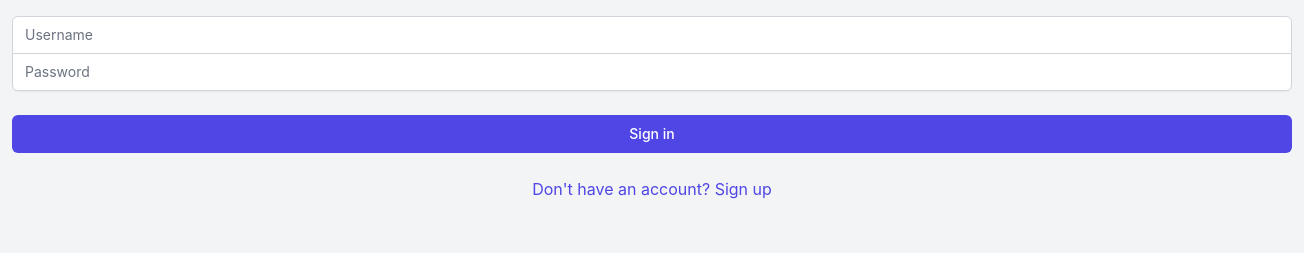
Test: LoginForm Component › toggles to registration form
Click the button "Don't have an account? Sign up" at coordinates (652, 189), box [532, 177, 772, 201]
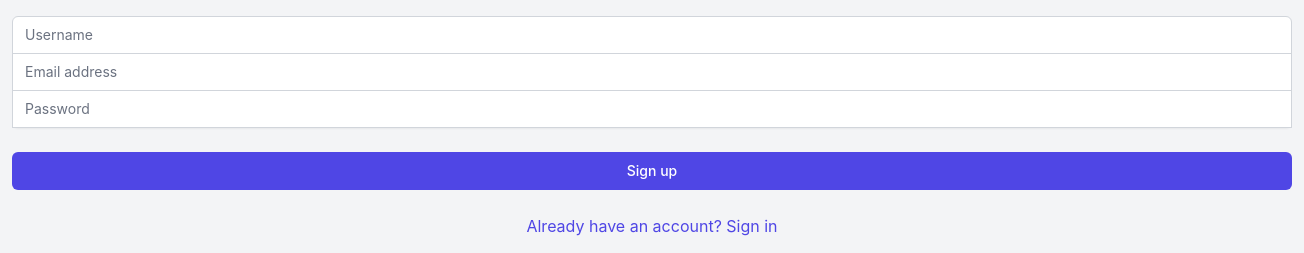
Expected: the field labelled "Username" is shown, [12, 16, 1292, 54]
Expected: the button "Sign up" is shown, [12, 152, 1292, 190]
Expected: the field labelled "Email" is shown, [12, 53, 1292, 91]
